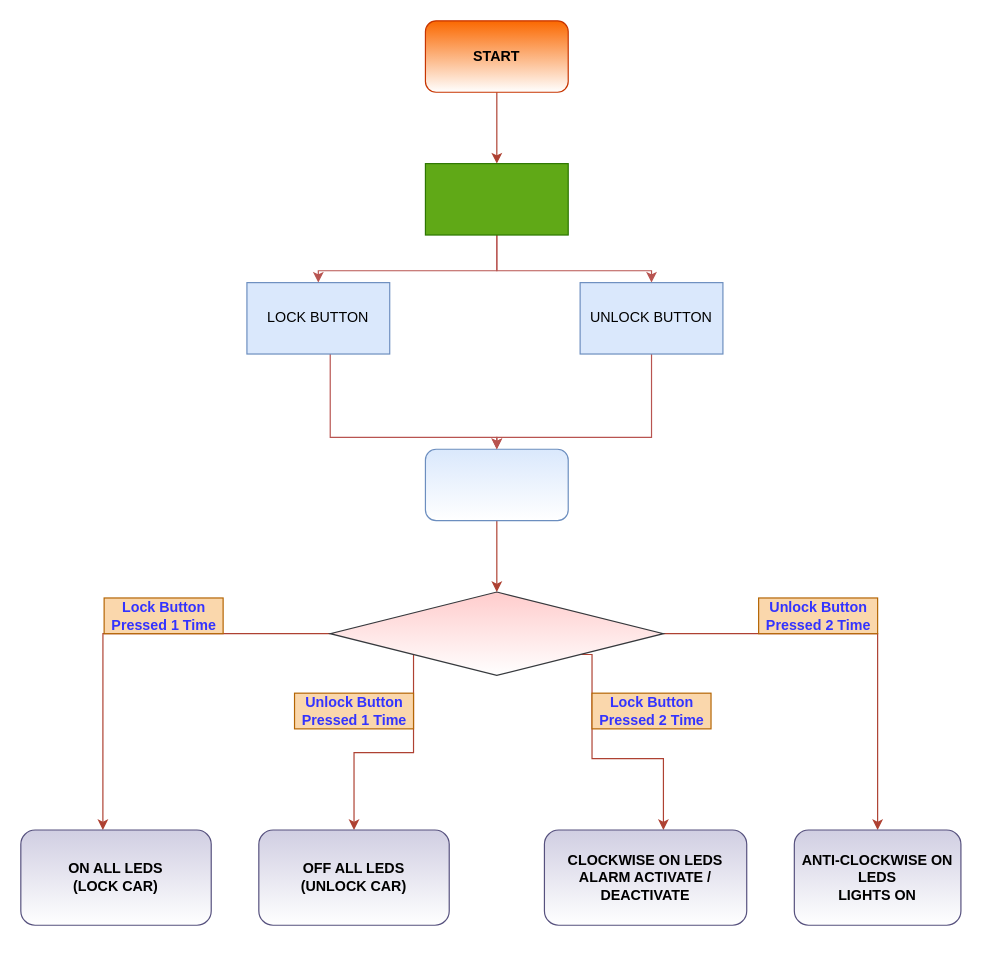
The diagram is 982 pixels wide and 956 high, and some of its shapes have lost their labels. Each missing label, with the centre of its shape:
CONDITION: (x=496, y=633)
DATA ENCRYPTION: (x=496, y=484)
USER INPUT BUTTON: (x=496, y=198)
